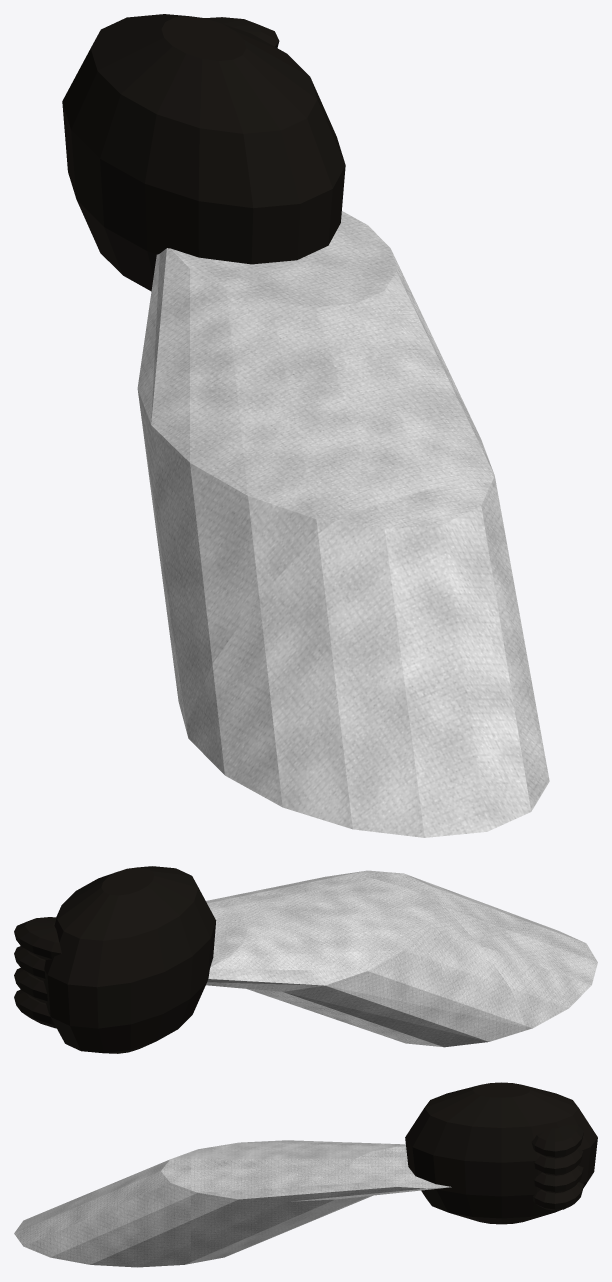
Rendered from SupportHand.obj.
3 renders of one model, top to bottom at view 1: azimuth 30°, elevation 25°; view 2: azimuth 150°, elevation 25°; view 3: azimuth 270°, elevation 25°, orthographic. The views are drawn at different scales.
Bounding box in the file's own units: 0.252 × 0.199 × 0.545.
2 materials, 1 textured.
